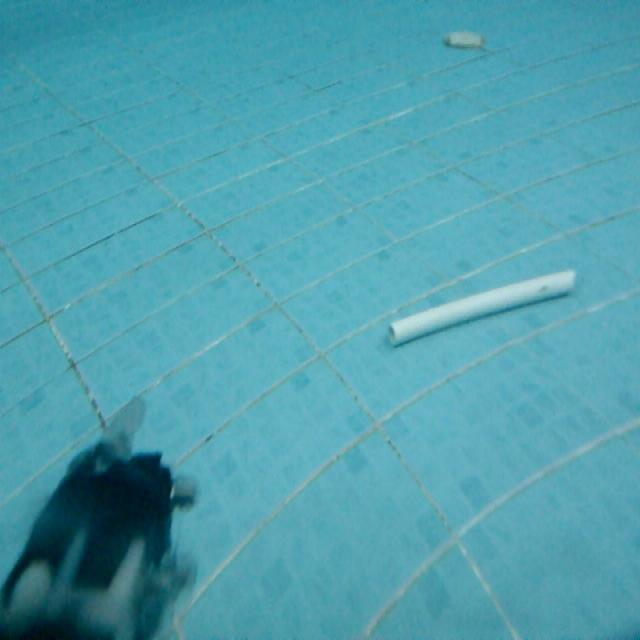Cube: (384, 263, 578, 349)
